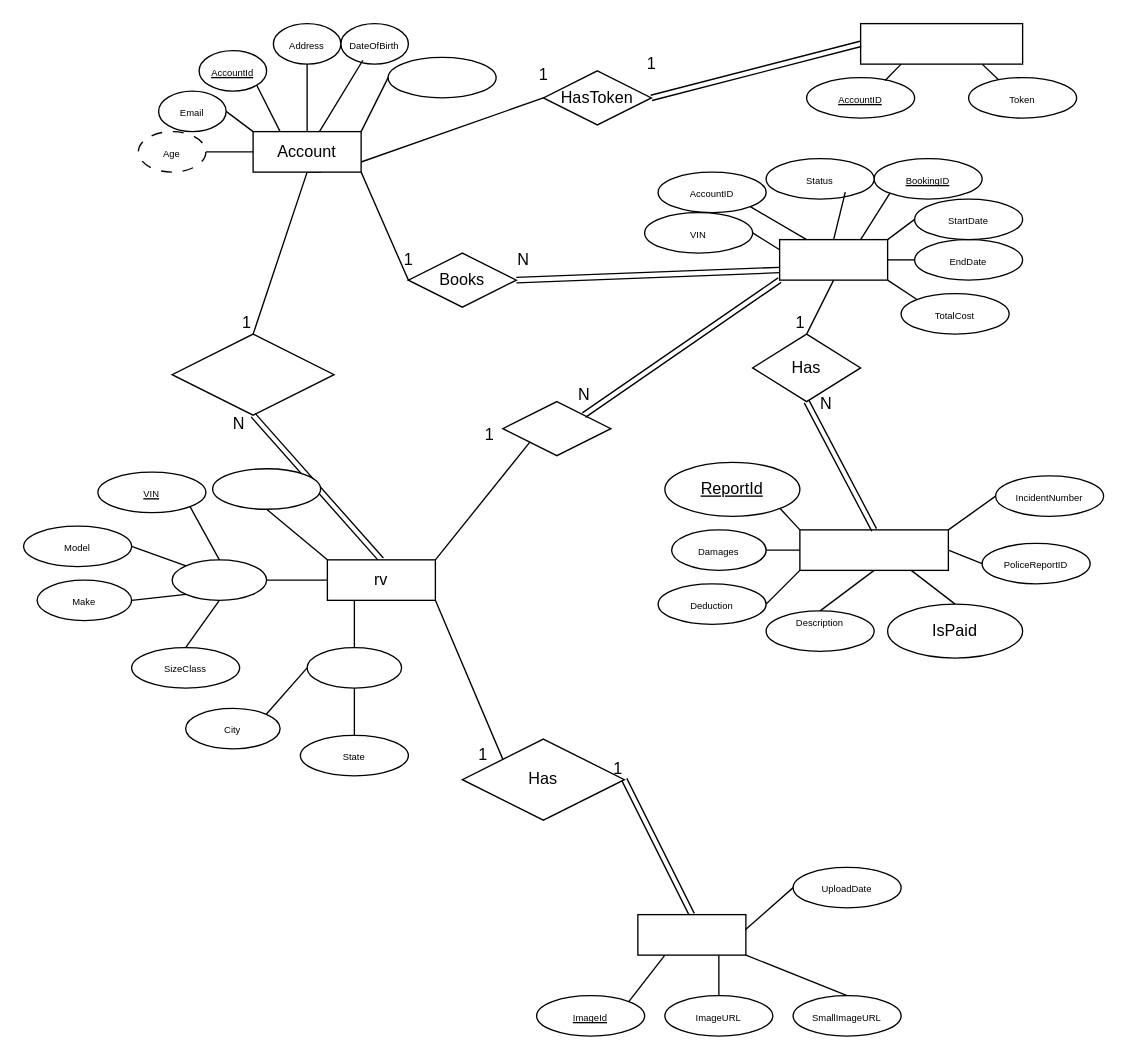
Some shapes in this 1127 by 1060 pixel diagram are drawn without their labels. Each missing label, with the centre of its shape:
Booked: the point at 556,428
Booking: the point at 833,259
damagereport: the point at 873,549
IDs: the point at 219,579
Image: the point at 691,934
InsuranceCompany: the point at 441,77
IsAvailable: the point at 266,488
Location: the point at 354,667
Owns: the point at 252,374
refreshtoken: the point at 941,43
